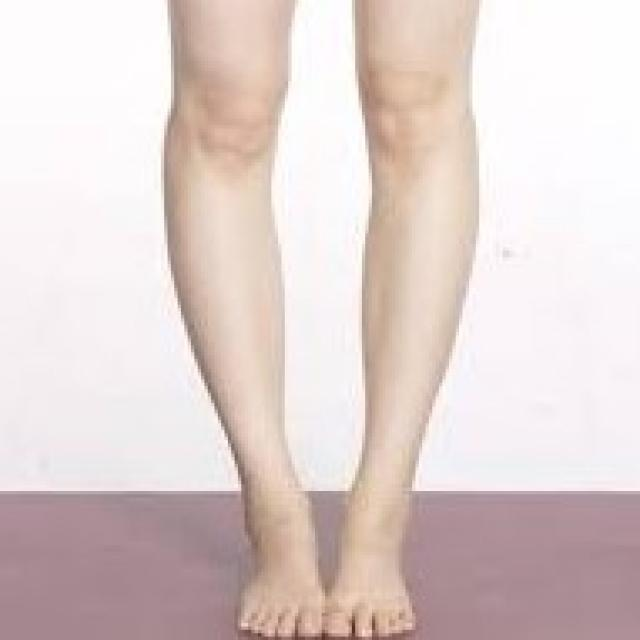Normal: (137, 118, 485, 496)
